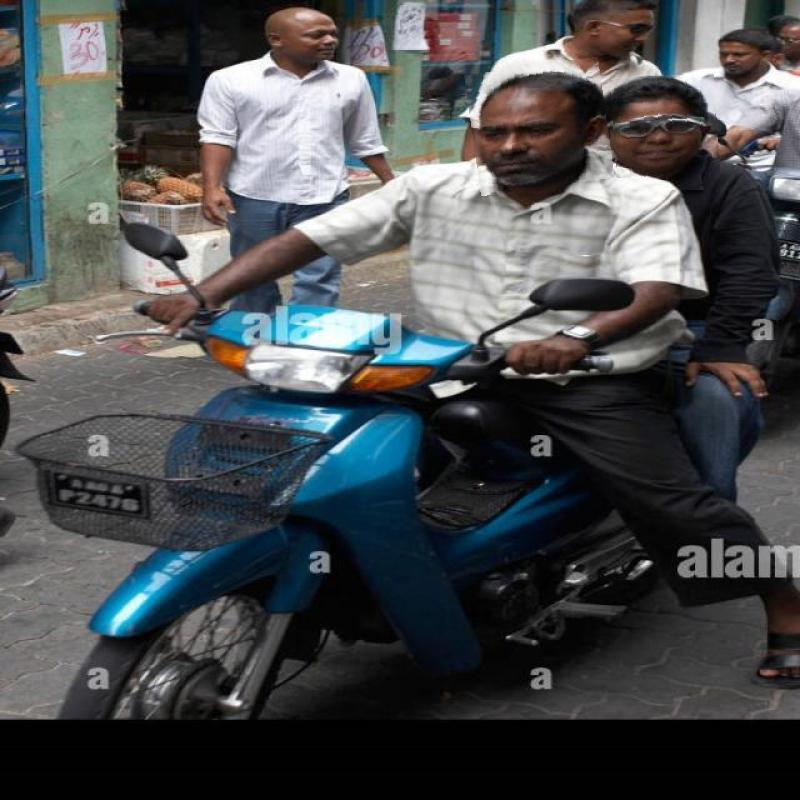nohelmet: (468, 62, 611, 192), (612, 74, 718, 176)
